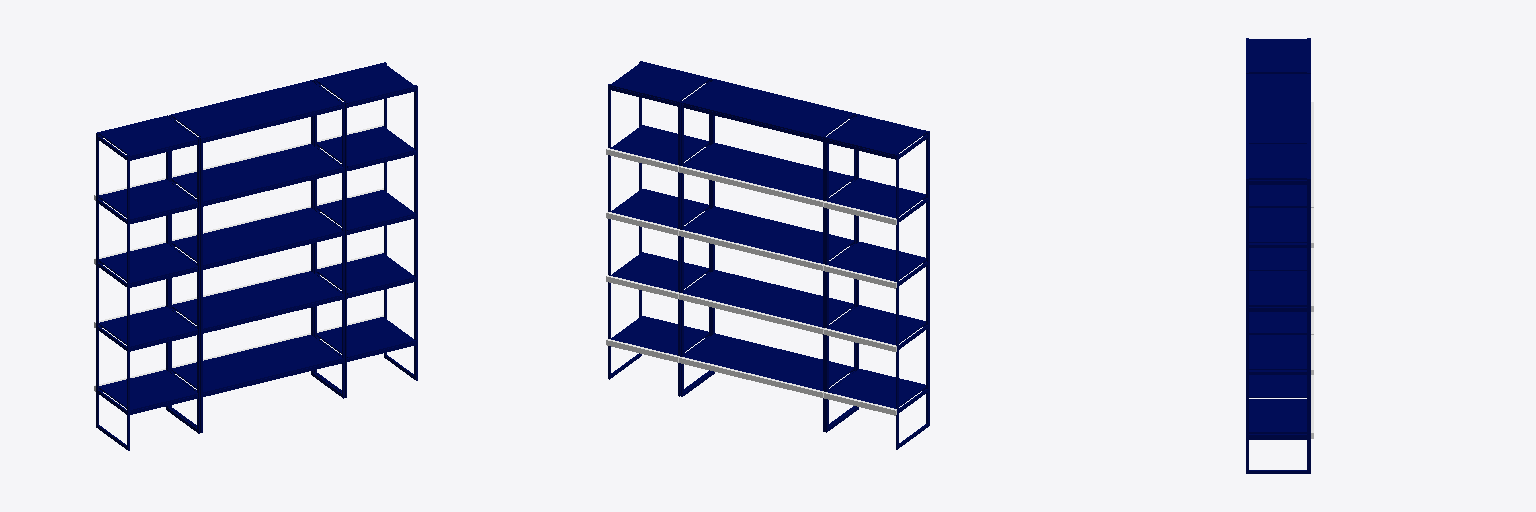
The picture shows the model from 3 angles: view 1: azimuth 30°, elevation 25°; view 2: azimuth 150°, elevation 25°; view 3: azimuth 270°, elevation 25°; orthographic projection.
Visible parts, largest first — view 1: 货架4; view 2: 货架4, 指示灯11, 指示灯2, 指示灯8, 指示灯5; view 3: 货架4.
Part boxes in pixels (left/top/right/bottom): 货架4: left=96, top=62, right=417, bottom=450; 货架4: left=608, top=61, right=929, bottom=449; 指示灯11: left=679, top=166, right=824, bottom=206; 指示灯2: left=679, top=357, right=823, bottom=397; 指示灯8: left=679, top=230, right=824, bottom=270; 指示灯5: left=679, top=293, right=824, bottom=334; 货架4: left=1246, top=38, right=1310, bottom=473.
Size of the model in its own units: 13.08 by 12.73 by 2.67.